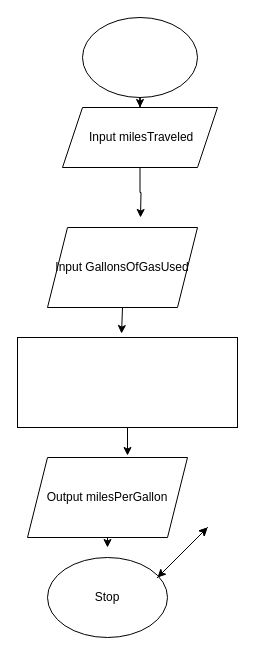
The diagram is 255 pixels wide and 655 high, and some of its shapes have lost their labels. The shapes that lost their labels are listed below. From the top down, each one's centre as x and y in pixels, then its label:
(140,57): Start
(127,382): milesPerGallon = milesTraveled / gallonsOfGasUsed
